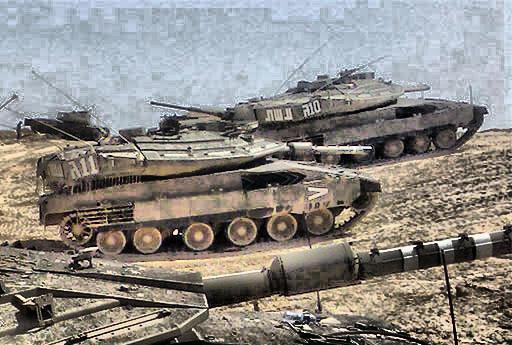tanks: (1, 232, 512, 345), (39, 131, 381, 255), (221, 71, 487, 160), (25, 111, 111, 142)
